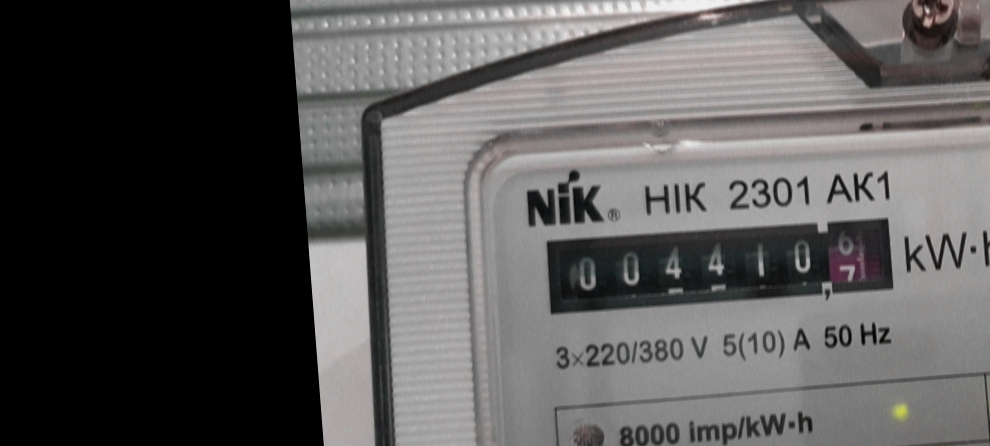0: (575, 252, 599, 292), (791, 237, 814, 274), (620, 247, 641, 287)
1: (752, 240, 768, 278)
4: (704, 239, 729, 279), (661, 241, 685, 281)
6: (838, 229, 857, 256)
7: (838, 262, 858, 282)
screen: (534, 201, 908, 328)
